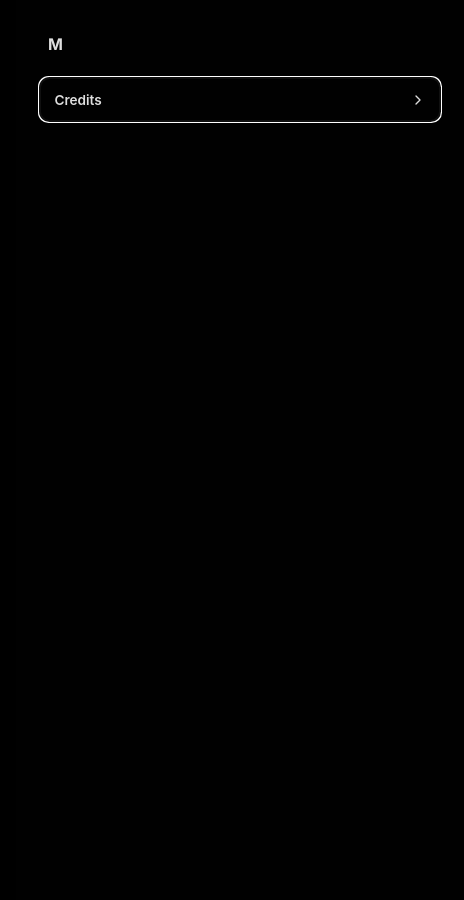
Test case: focus and late submenus › drops a submenu that finishes after another menu opened
Click the menu item "Credits" at (78, 100), box [40, 78, 440, 121]
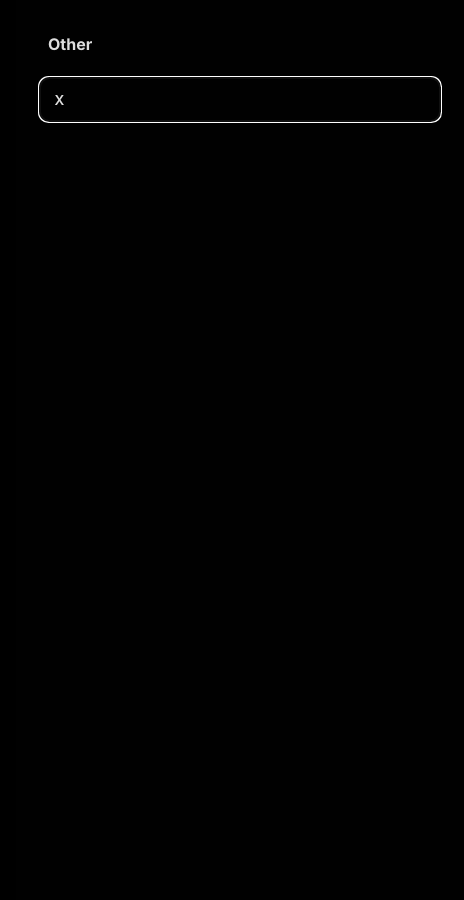
Expected: the menu "Other" is shown
